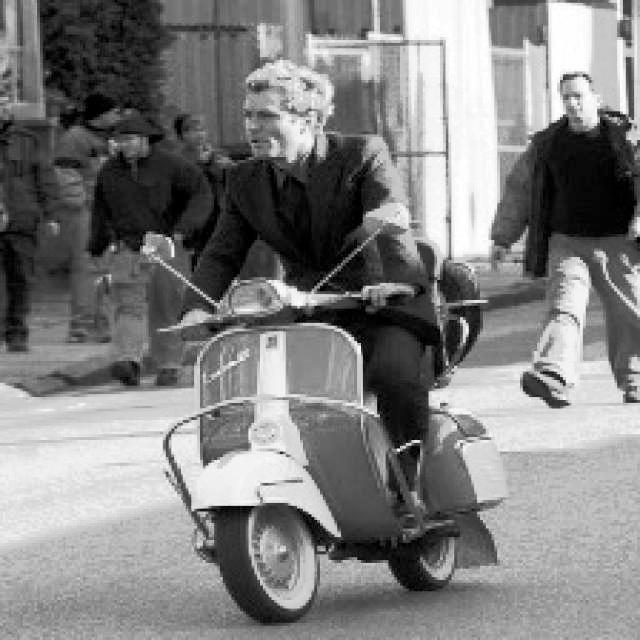Bike: (156, 276, 524, 632)
